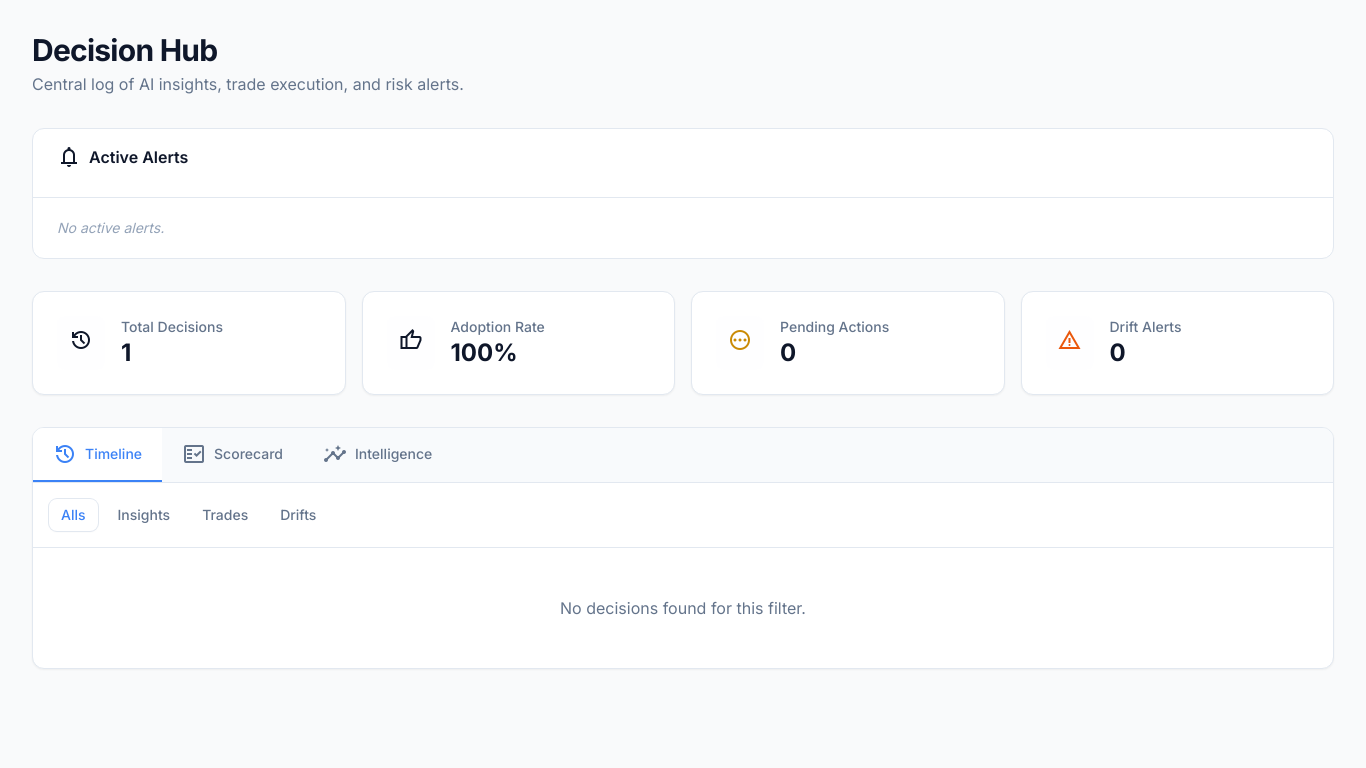
Scenario: DecisionHub batch7 › shows grade tooltip when grade is missing
This screenshot has width=1366, height=768.
Click the button "Scorecard": point(232, 455) [162,428,303,482]
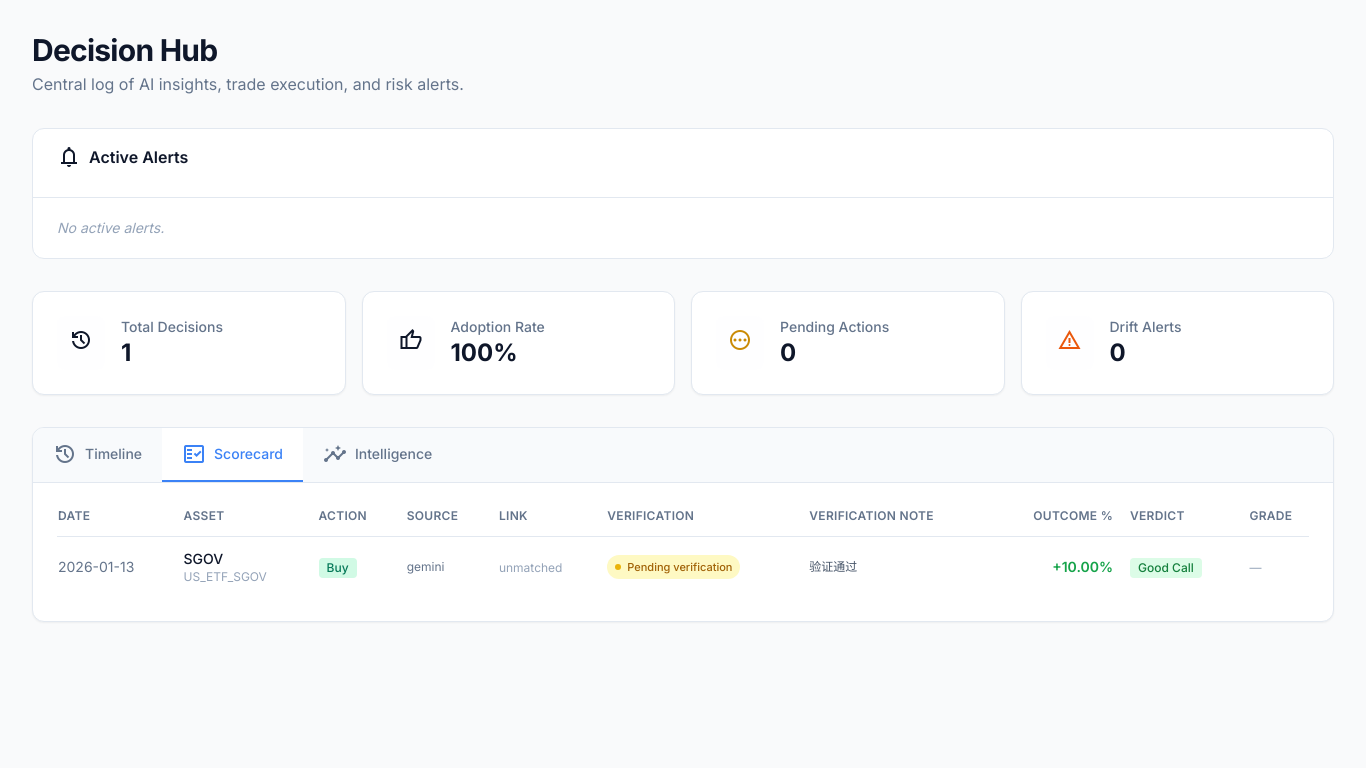
Check: the text titled "No review recorded for this trade" is shown, box [1249,560,1261,575]
